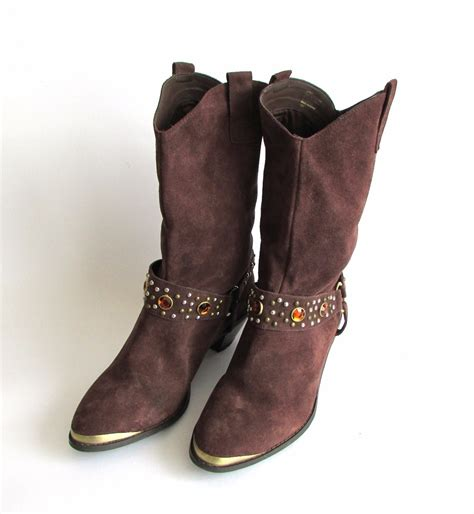gamuza: (69, 61, 398, 457)
